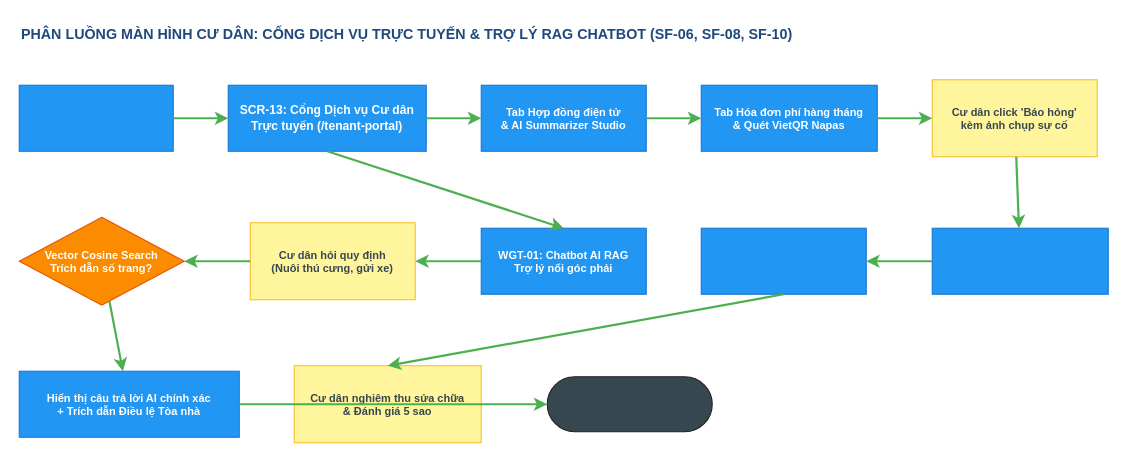
This 1128x462 diagram has some shape labels left out. Here are the shapes that lost their labels. From the top down, the box of each, then its label:
(18, 84, 173, 151): SCR-03: Đăng nhập (Role = TENANT)
(700, 227, 866, 294): Tạo phiếu kỹ thuật Nhân viên phân công
(931, 227, 1108, 294): MDL-10: Modal Báo hỏng Chọn mức Khẩn cấp (URGENT)
(546, 376, 712, 432): Đăng xuất / Kết thúc
